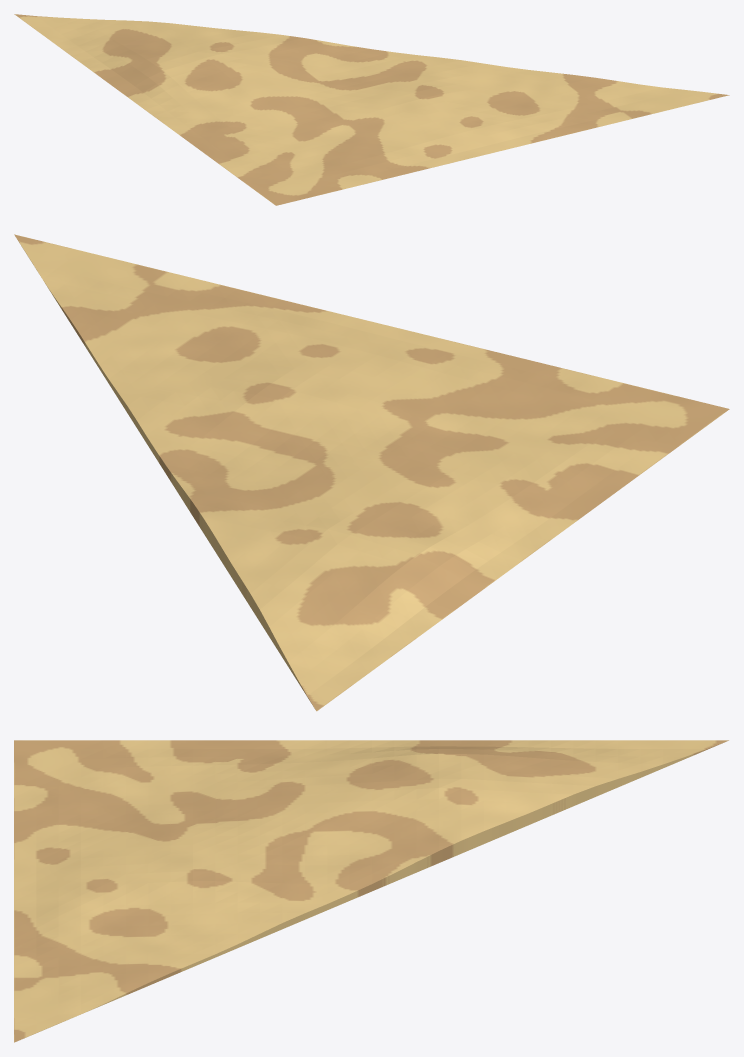
Rendered from Desert_Flat_04_NW.obj.
3 renders of one model, top to bottom at view 1: azimuth 30°, elevation 25°; view 2: azimuth 150°, elevation 25°; view 3: azimuth 270°, elevation 25°, orthographic. The views are drawn at different scales.
Bounding box in the file's own units: 10 × 0.284 × 10.
Materials: 1 (1 with a texture image).
